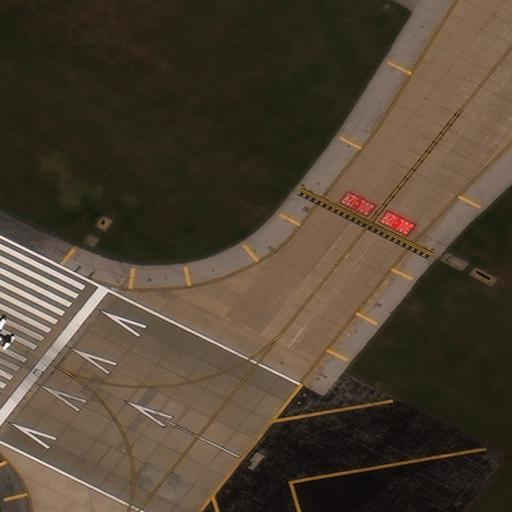Small Civil Transport: (0, 318, 10, 345)
